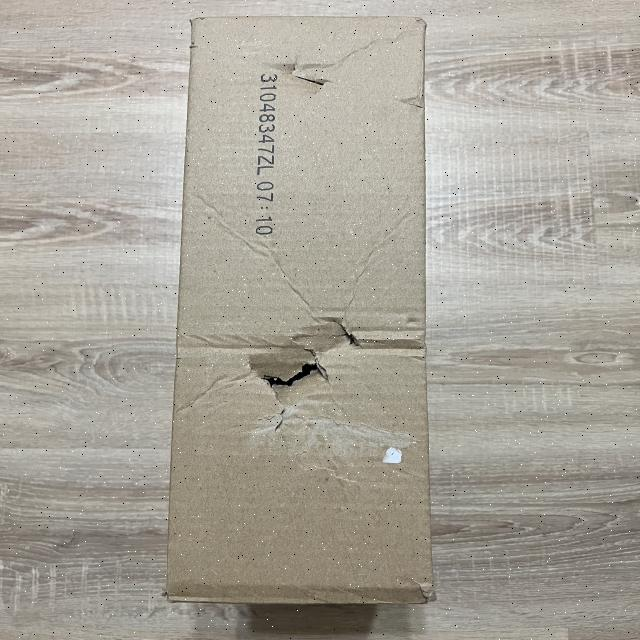damaged: (168, 11, 448, 607), (239, 306, 374, 421), (267, 57, 350, 96)
